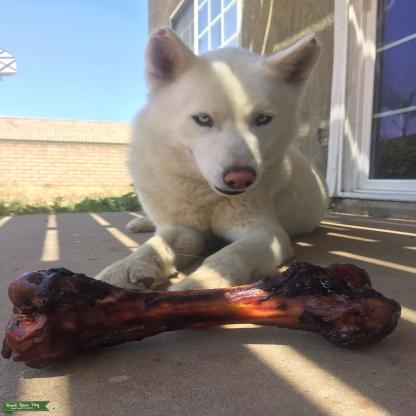husky: (89, 30, 338, 298)
